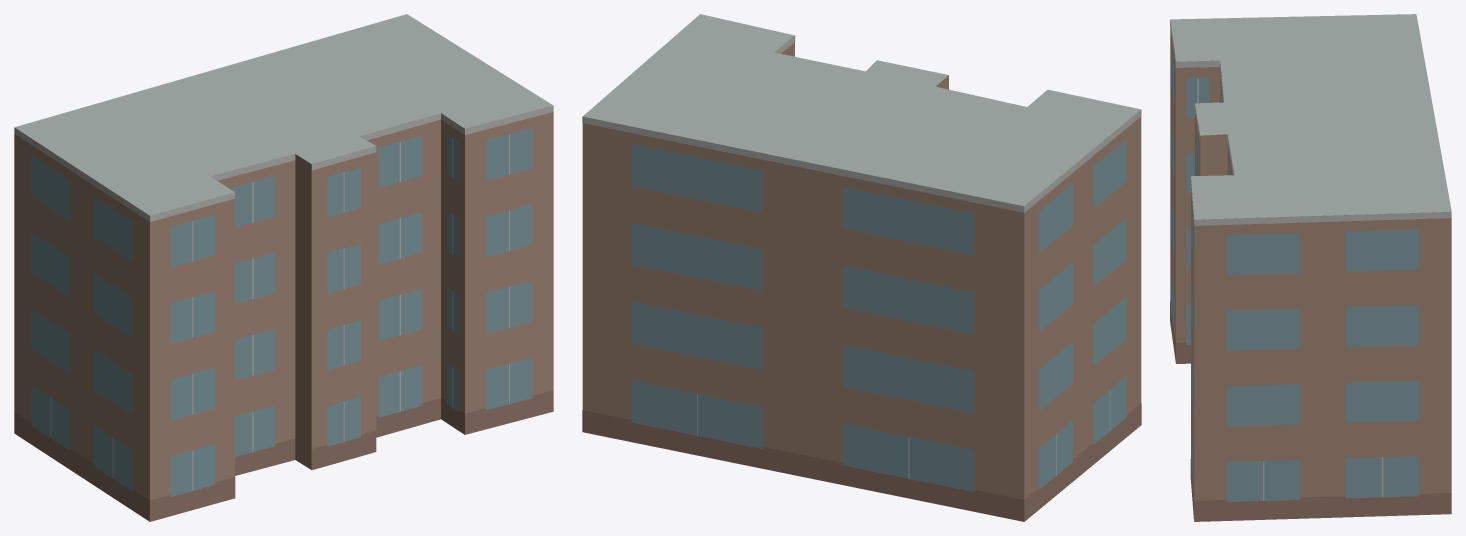
File: survey-upis-32756361.glb
3 renders of one model, left to right at view 1: azimuth 30°, elevation 25°; view 2: azimuth 150°, elevation 25°; view 3: azimuth 270°, elevation 25°, orthographic. The views are drawn at different scales.
Parts seen in each view (by area): view 1: survey-upis-32756361.tmp; view 2: survey-upis-32756361.tmp; view 3: survey-upis-32756361.tmp.
Part boxes in pixels (box(x1,y1,x2,y2)): survey-upis-32756361.tmp: box(14, 14, 553, 521); survey-upis-32756361.tmp: box(582, 14, 1141, 521); survey-upis-32756361.tmp: box(1170, 14, 1451, 521).
Bounding box in the file's own units: 17.23 × 11.8 × 9.98.
